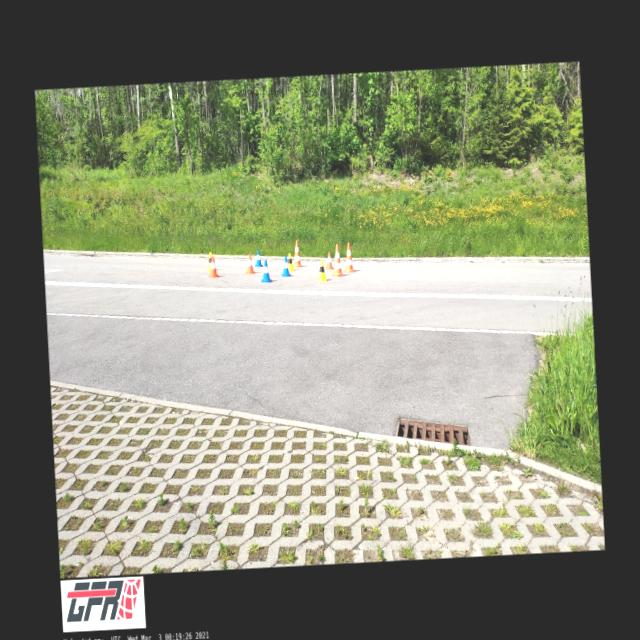blue_cone: (260, 260, 272, 282), (280, 256, 290, 276), (254, 250, 263, 267)
large_orange_cone: (331, 244, 344, 278), (344, 242, 356, 272), (292, 240, 302, 268)
orange_cone: (208, 256, 218, 278), (245, 254, 255, 274), (325, 252, 333, 269)
yellow_cone: (316, 261, 328, 282), (206, 251, 213, 271), (288, 254, 294, 272)
